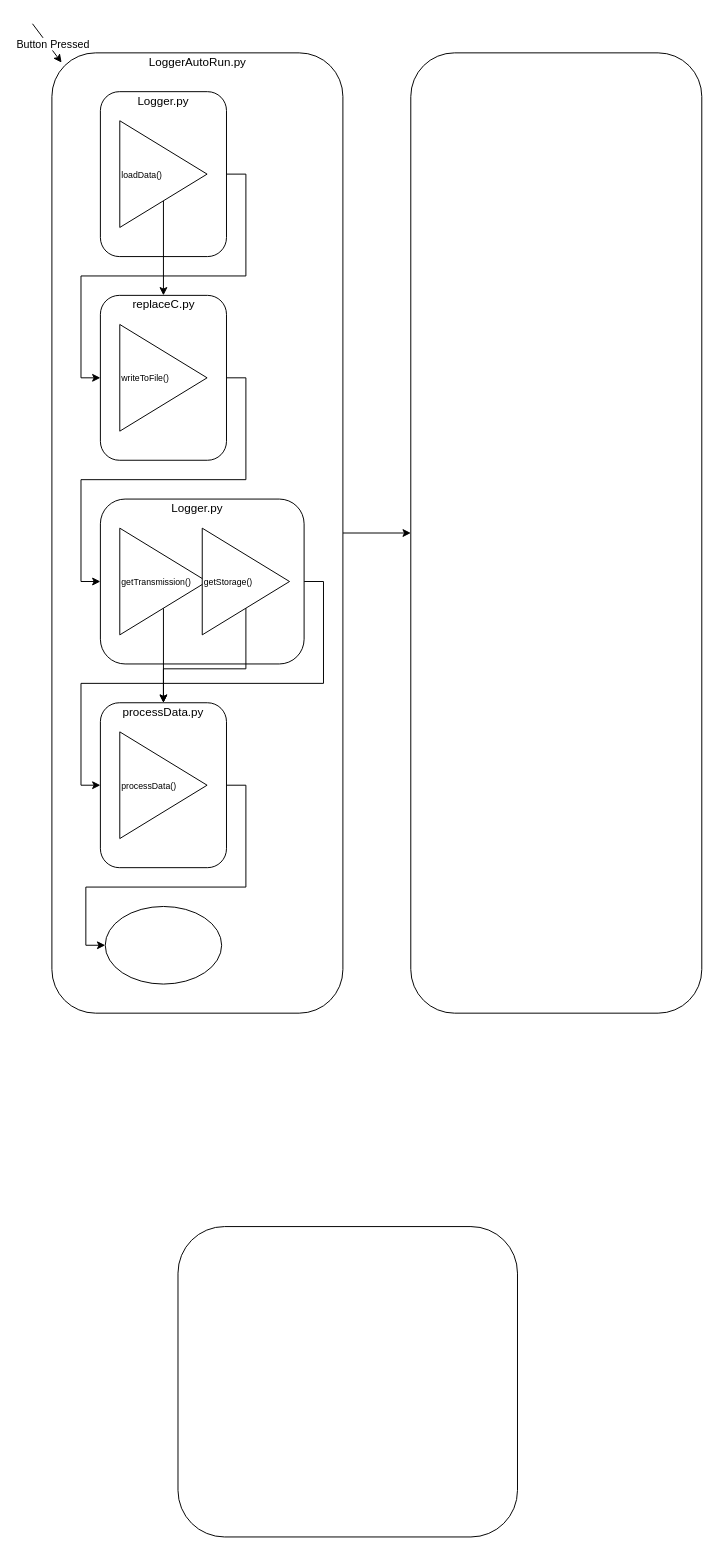
This 720x1554 diagram has some shape labels left out. The shapes that lost their labels are listed below. From the top down, each one's centre as x and y in pixels, then its label:
At (x=556, y=532): "LoggerShell_CLI.py".
At (x=163, y=944): "If Time is between midnight and 00:05 turn pi off".
